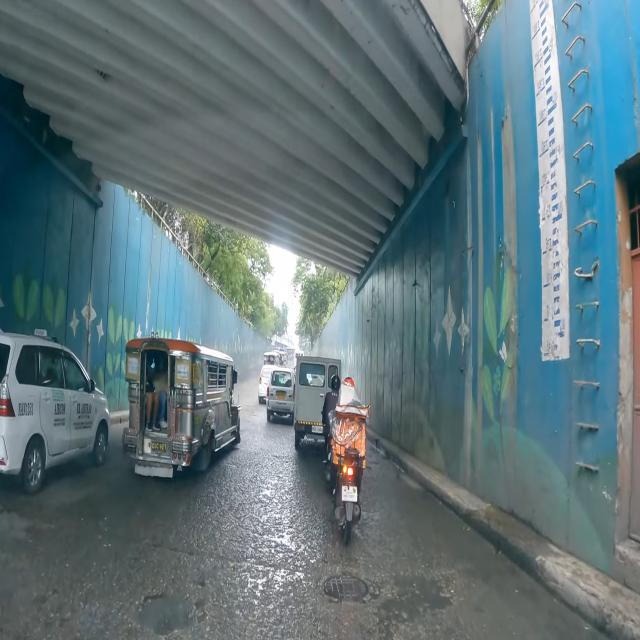car: (0, 326, 112, 491), (266, 368, 296, 426), (258, 365, 280, 405)
jeepney: (123, 338, 240, 486), (264, 352, 280, 366), (277, 351, 288, 368)
motorcycle: (328, 376, 372, 548), (322, 374, 341, 484)
truck: (294, 356, 342, 454)
